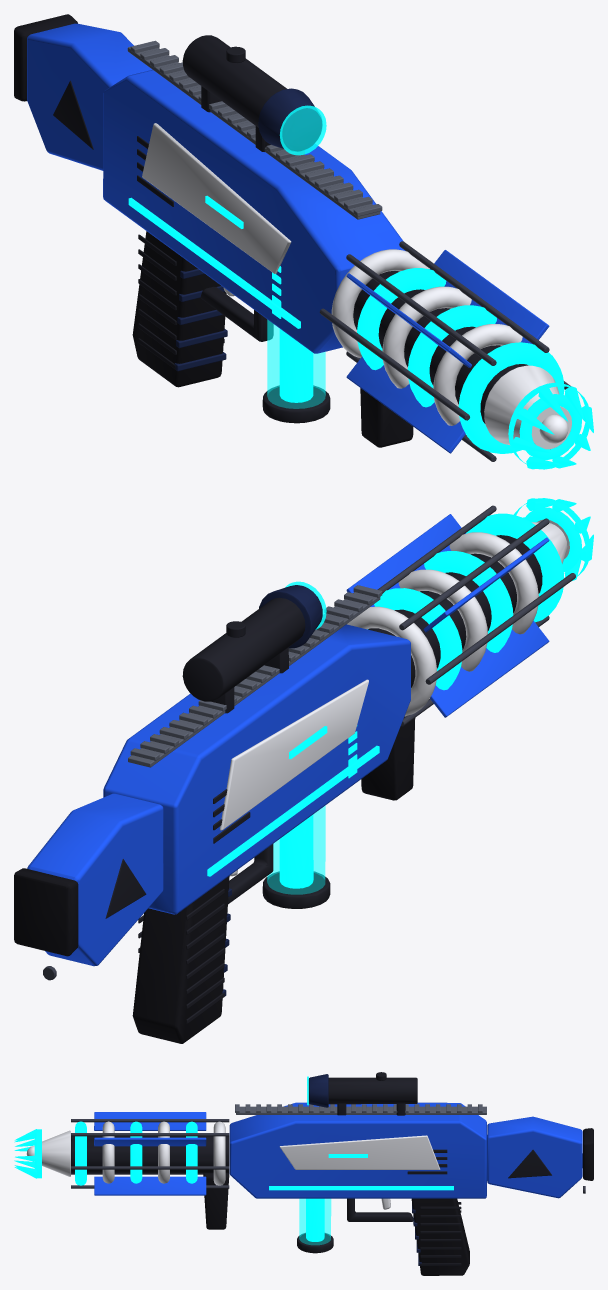
The model's file is SpaceShotgun.fbx.
The picture shows the model from 3 angles, top to bottom: view 1: azimuth 30°, elevation 25°; view 2: azimuth 150°, elevation 25°; view 3: azimuth 270°, elevation 25°; orthographic projection. The views are drawn at different scales.
Parts seen in each view (by area): view 1: SpaceShotgun_Blaster_de_Iones_Mesh, SpaceShotgun_Detalle_Iones; view 2: SpaceShotgun_Blaster_de_Iones_Mesh, SpaceShotgun_Detalle_Iones; view 3: SpaceShotgun_Blaster_de_Iones_Mesh, SpaceShotgun_Detalle_Iones.
Part boxes in pixels (left/top/right/bottom): SpaceShotgun_Blaster_de_Iones_Mesh: left=14, top=14, right=581, bottom=459; SpaceShotgun_Detalle_Iones: left=127, top=40, right=593, bottom=469; SpaceShotgun_Blaster_de_Iones_Mesh: left=14, top=507, right=581, bottom=1043; SpaceShotgun_Detalle_Iones: left=43, top=498, right=593, bottom=1023; SpaceShotgun_Blaster_de_Iones_Mesh: left=26, top=1074, right=593, bottom=1275; SpaceShotgun_Detalle_Iones: left=14, top=1072, right=585, bottom=1265.
Bounding box in the file's own units: 10.4 × 32.08 × 85.9.
